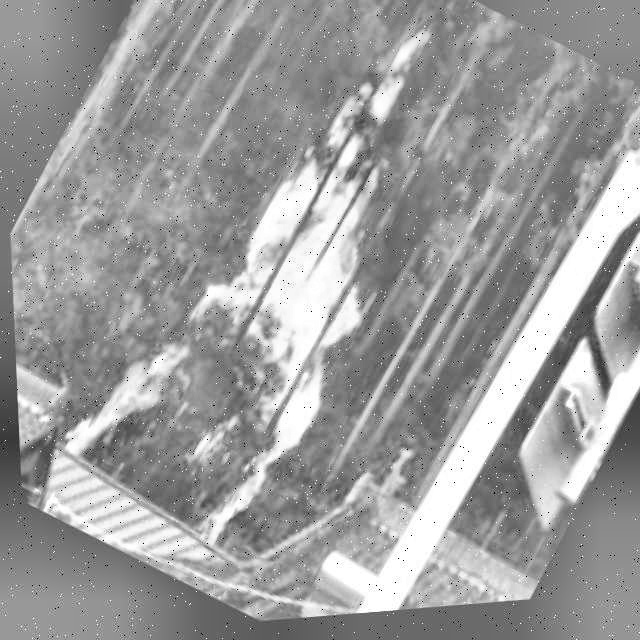Fire: (43, 0, 514, 568)
